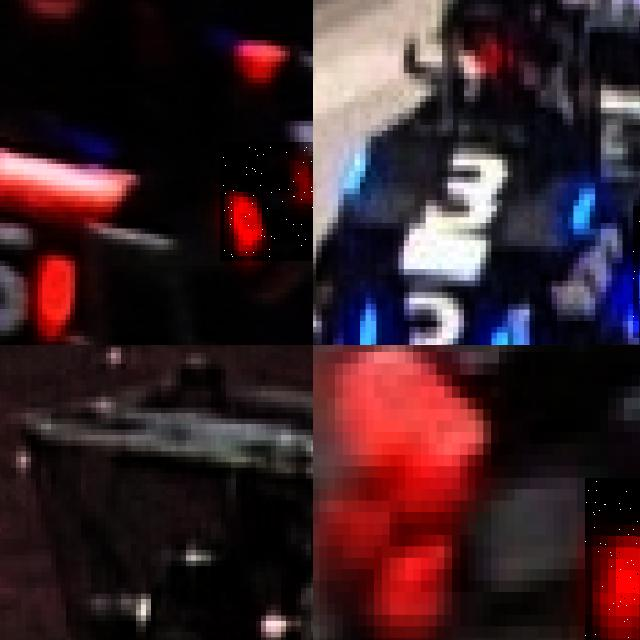B3: (333, 131, 617, 246), (354, 286, 502, 345)
R5: (219, 142, 313, 260), (585, 477, 640, 640)
